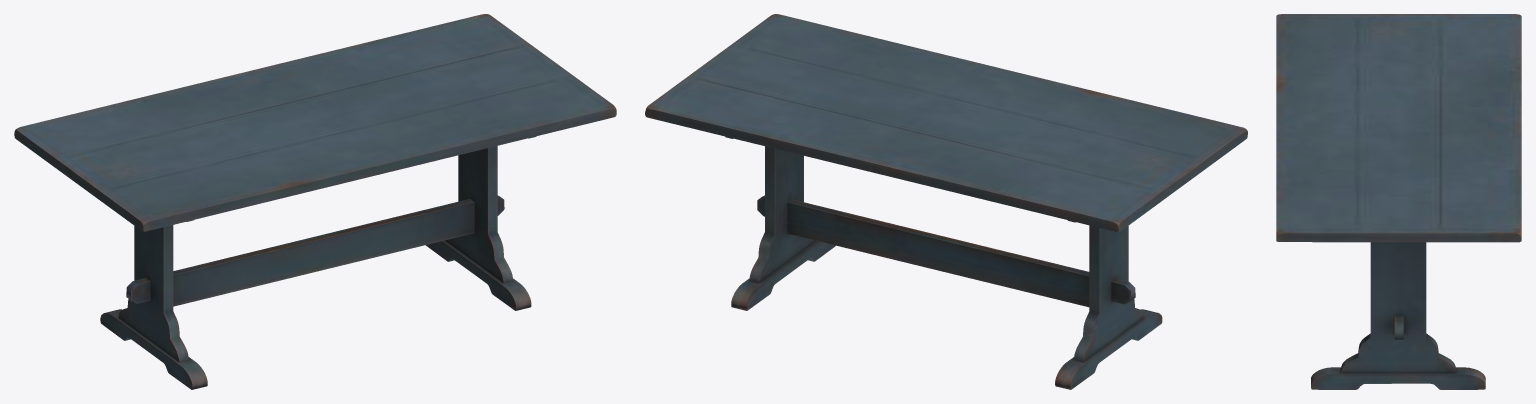
File: dining_table.gltf
3 renders of one model, left to right at view 1: azimuth 30°, elevation 25°; view 2: azimuth 150°, elevation 25°; view 3: azimuth 270°, elevation 25°, orthographic. The views are drawn at different scales.
Visible parts, largest first — view 1: painted_wooden_table; view 2: painted_wooden_table; view 3: painted_wooden_table.
Part boxes in pixels (left/top/right/bottom): painted_wooden_table: left=14, top=14, right=616, bottom=389; painted_wooden_table: left=645, top=14, right=1247, bottom=389; painted_wooden_table: left=1276, top=14, right=1521, bottom=389.
Size of what is drawn, in the model's own units: 2.41 by 0.9586 by 1.14.
Materials: 1 (1 with a texture image).
